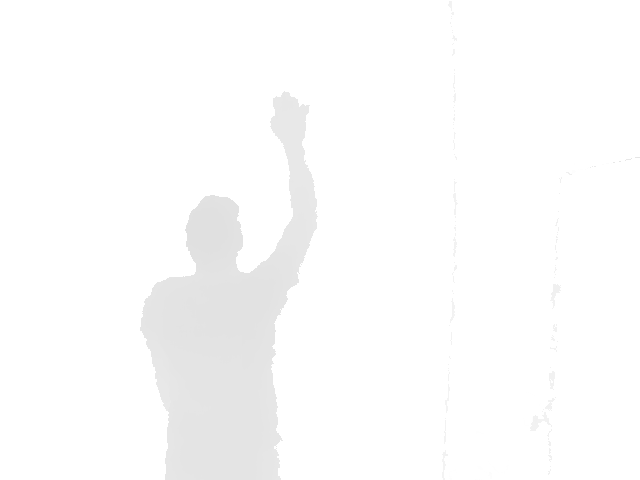hand: (269, 89, 319, 145)
head: (184, 194, 244, 271)
person: (139, 90, 319, 480)
